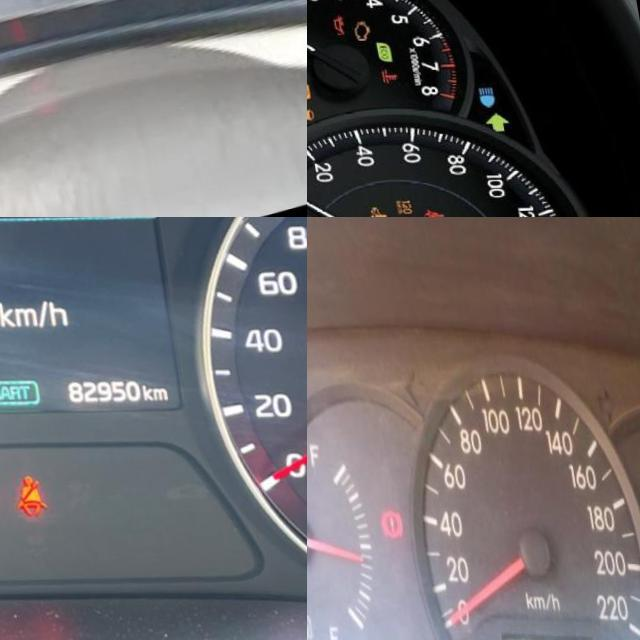High Engine Coolant Temperature: (376, 71, 394, 87)
Seat Belt: (413, 211, 434, 217)
